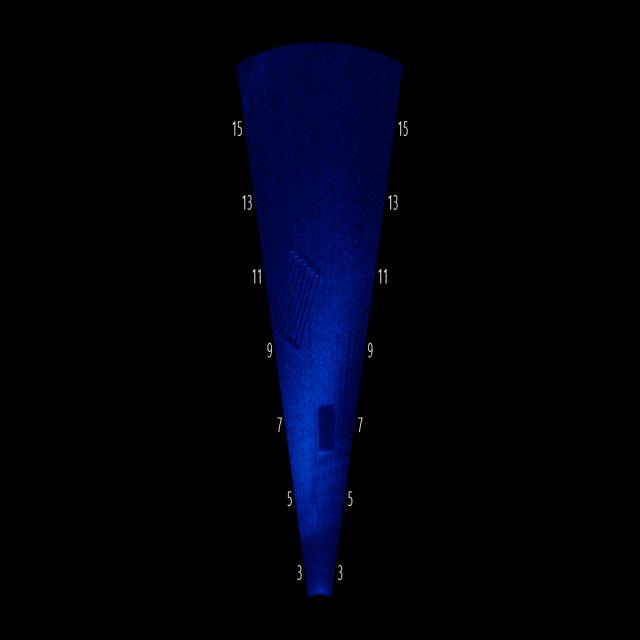square: (270, 236, 324, 364), (314, 397, 341, 462)
